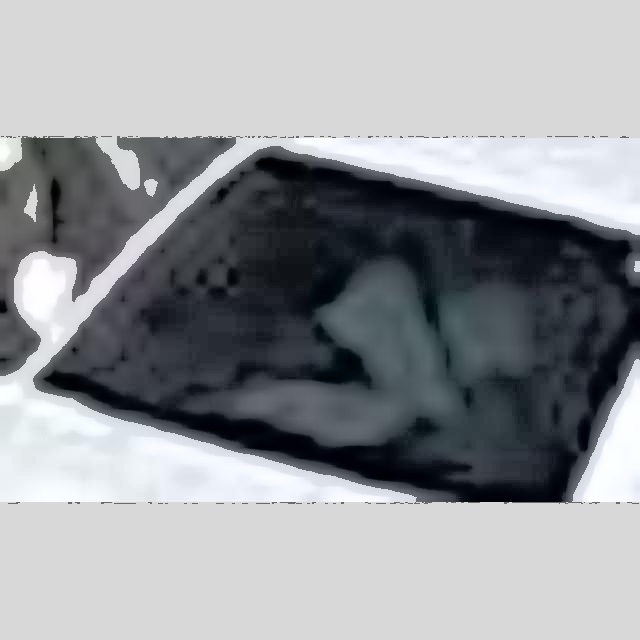pakai: (246, 217, 502, 443)
